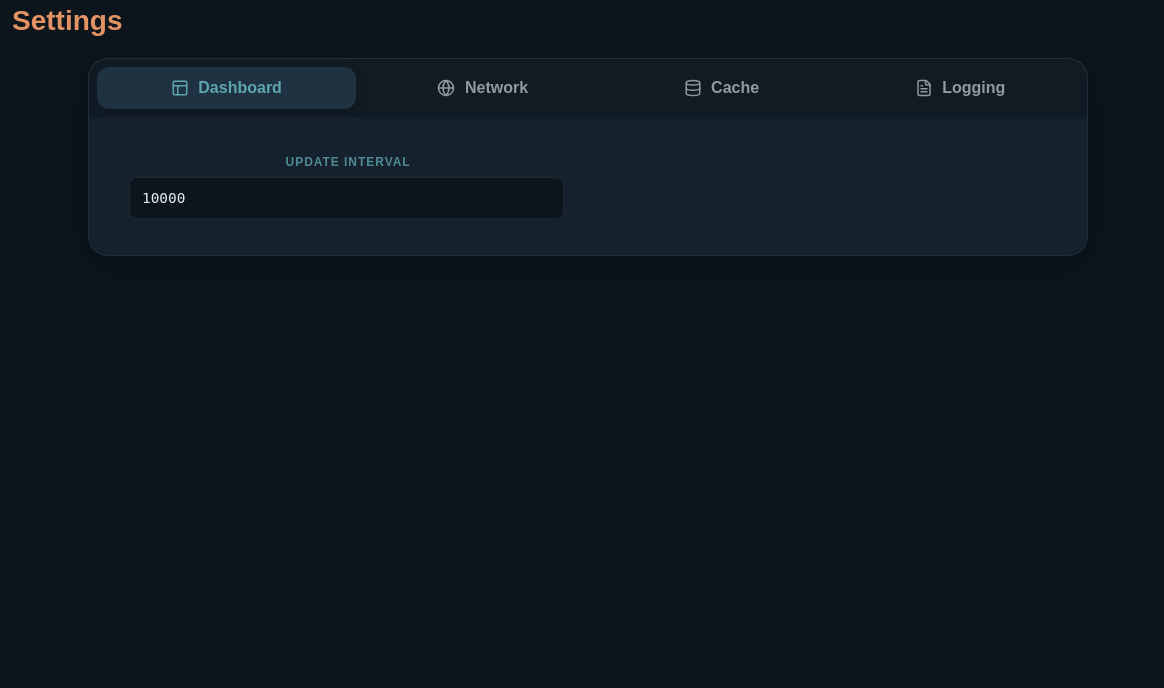
it: settings page › shows only cache settings relevant to the staged backend
Expected: the field labelled "Update Interval" is enabled, [142,178,551,218]
Click the button "Cache": [721, 88] box [610,67,833,109]
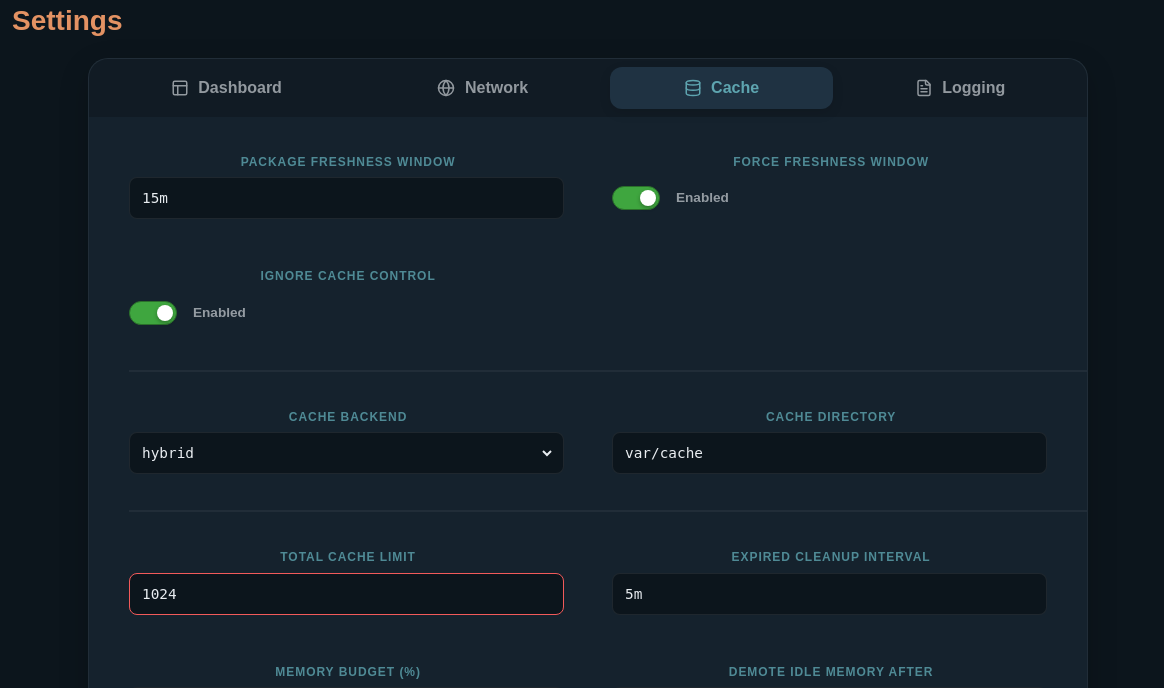
Expected: the field labelled "Cache Directory" is shown, [625,433,1034,473]
Select "memory" in the dropdown labelled "Cache Backend": [346, 453] box [138,433,555,473]
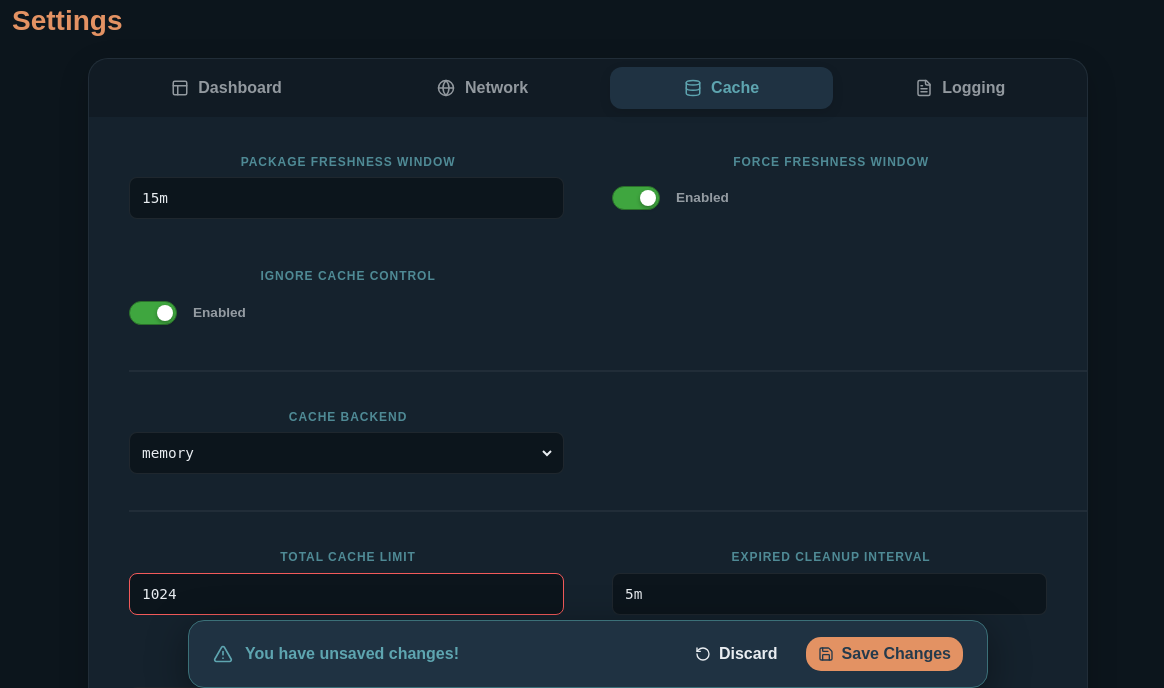
Expected: the label labelled "Cache Directory" is gone
Expected: the label labelled "Demote Idle Memory After" is gone
Select "file" in the dropdown labelled "Cache Backend": [346, 453] box [138,433,555,473]
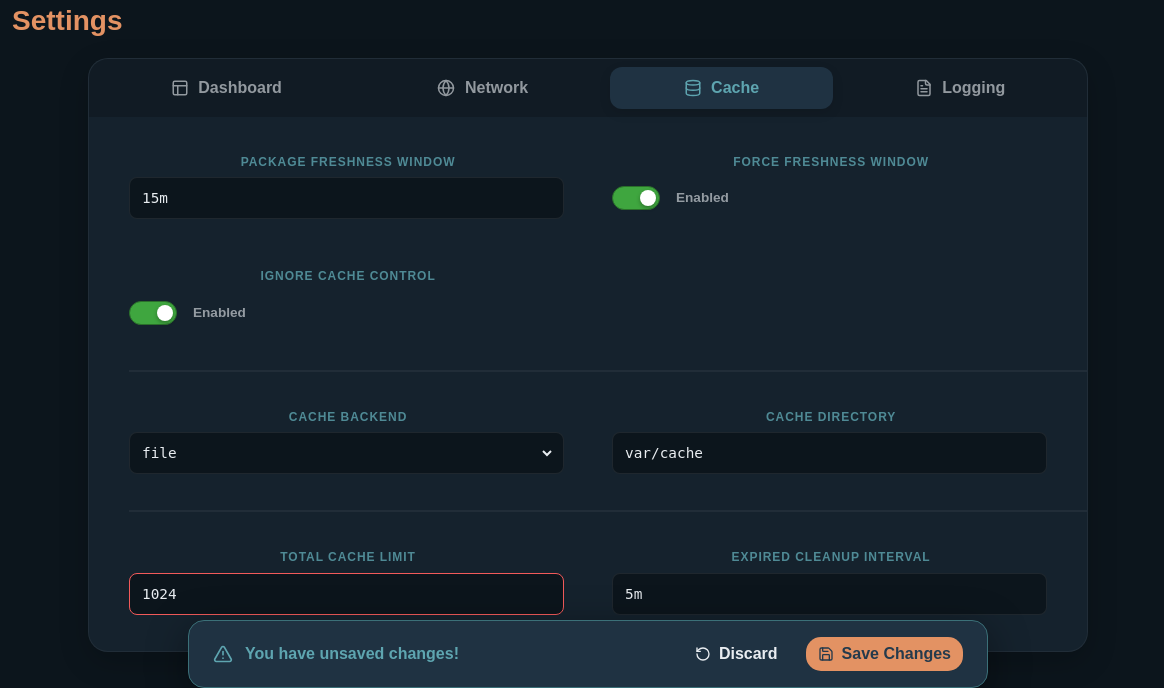
Expected: the label labelled "Memory Budget (%)" is not shown
Expected: the field labelled "Cache Directory" is shown, [625,433,1034,473]
